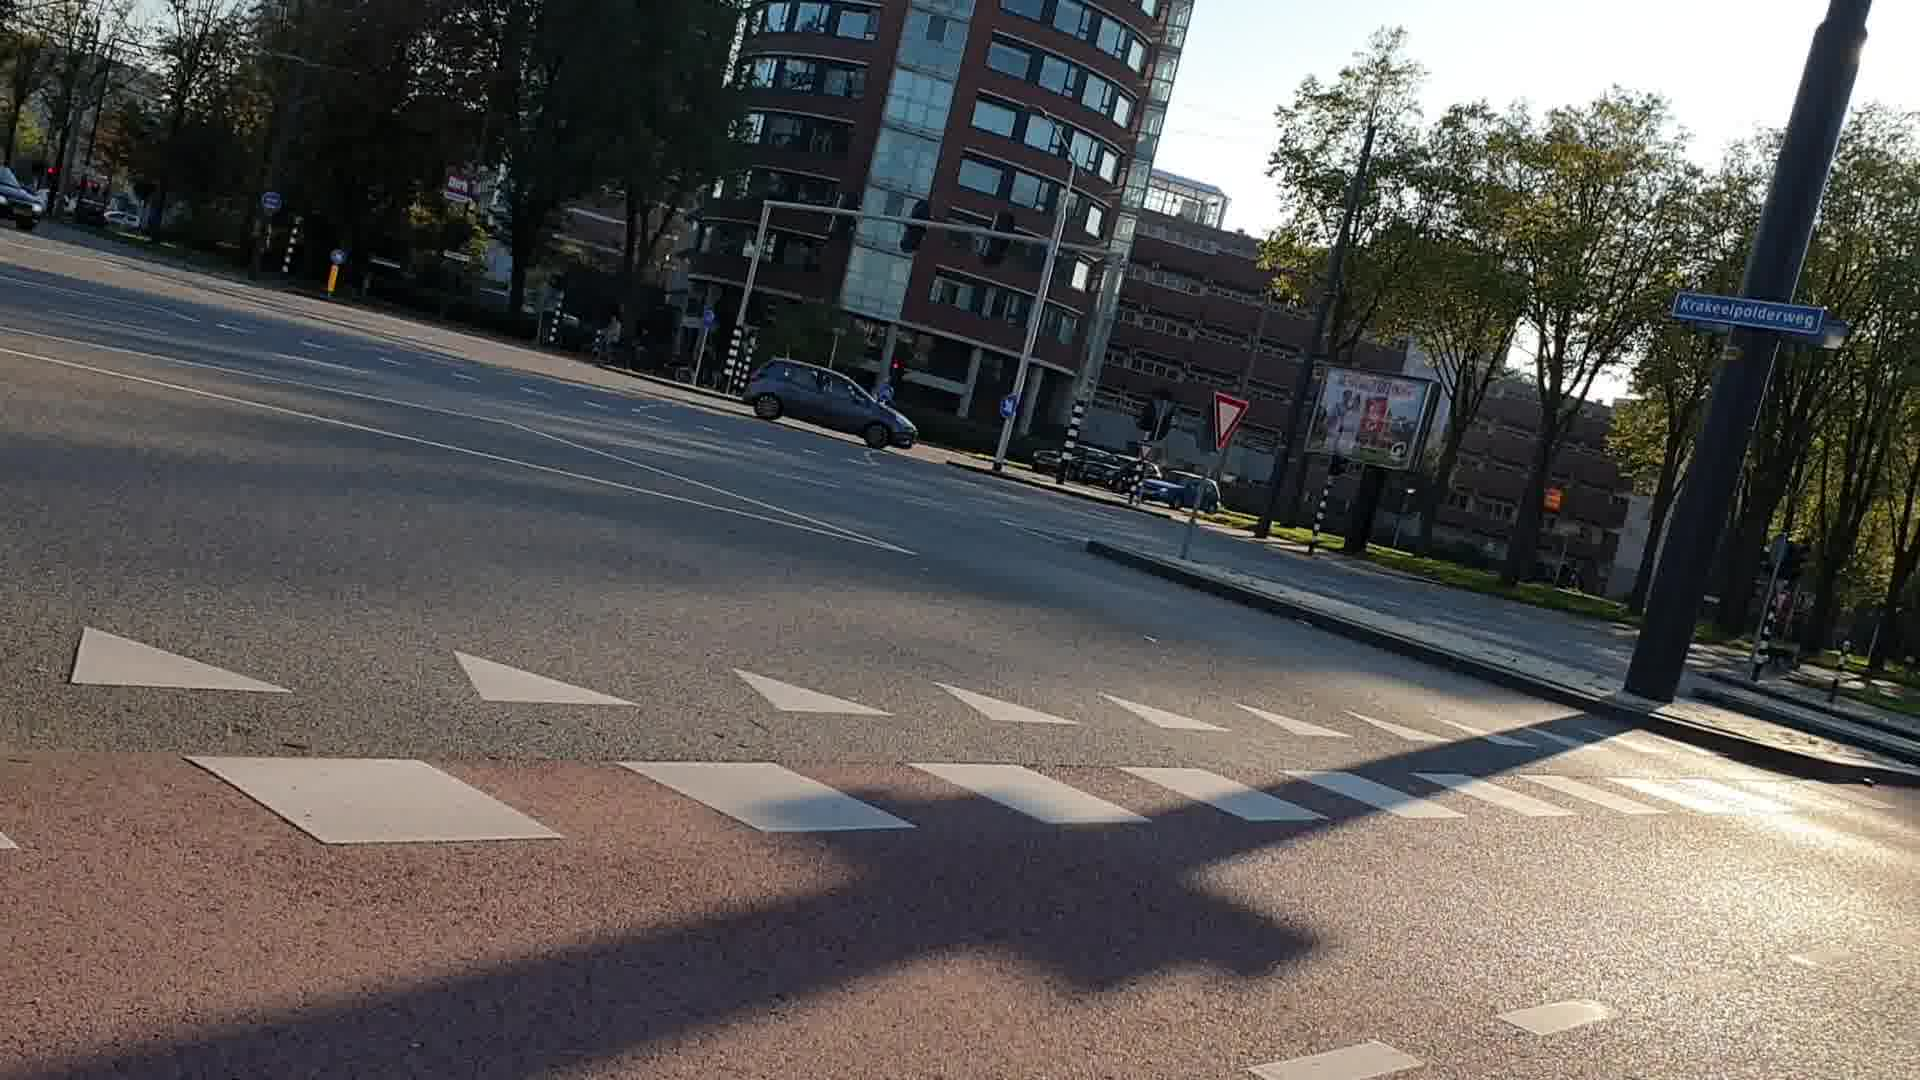car: (738, 357, 916, 448)
